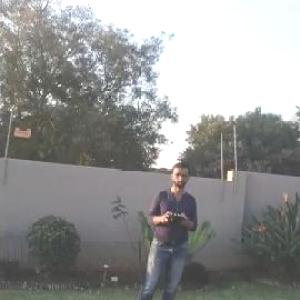follow: (122, 157, 202, 299)
